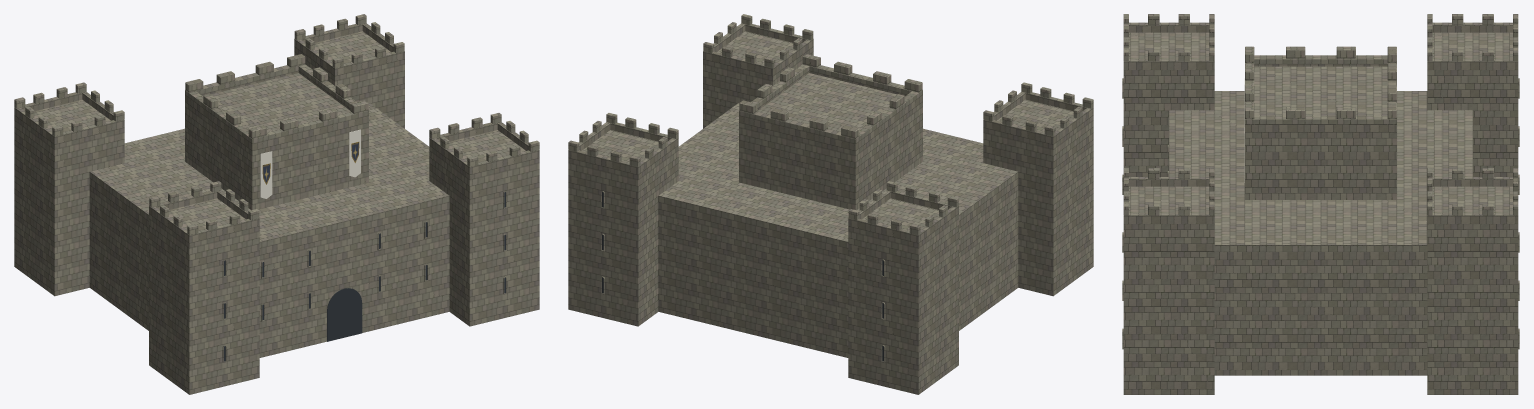
File: Furn_Dorm_Knight.fbx
The picture shows the model from 3 angles, left to right: view 1: azimuth 30°, elevation 25°; view 2: azimuth 150°, elevation 25°; view 3: azimuth 270°, elevation 25°; orthographic projection. The views are drawn at different scales.
Parts seen in each view (by area): view 1: Furn_Dorm_Knight_Mesh; view 2: Furn_Dorm_Knight_Mesh; view 3: Furn_Dorm_Knight_Mesh.
Boxes of the visible parts, x1=… form: Furn_Dorm_Knight_Mesh: x1=14, y1=14, x2=539, y2=394; Furn_Dorm_Knight_Mesh: x1=568, y1=14, x2=1093, y2=394; Furn_Dorm_Knight_Mesh: x1=1122, y1=14, x2=1519, y2=394.
Size of the model in its own units: 30 by 16 by 26.18.
